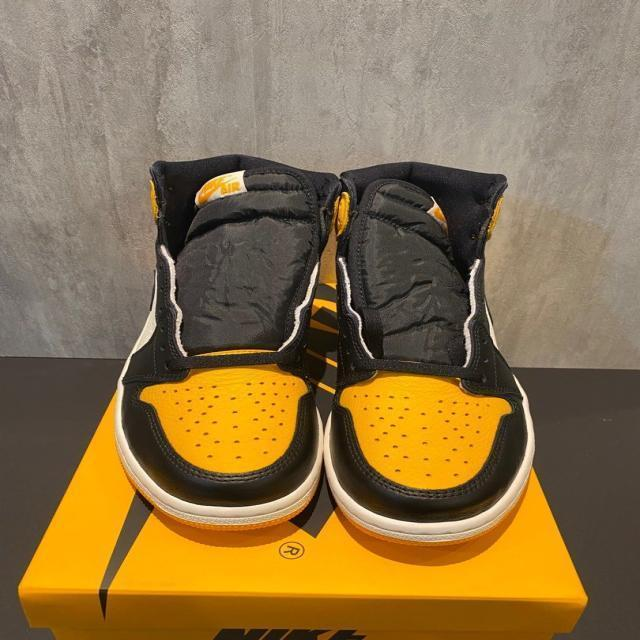nike original air force: (106, 156, 358, 536), (320, 162, 541, 556)
